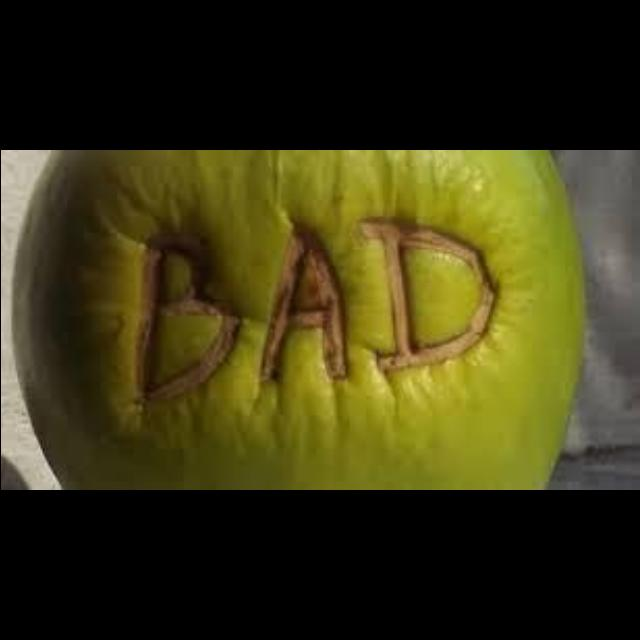apple: (12, 150, 584, 489)
scratch: (259, 231, 351, 384)
